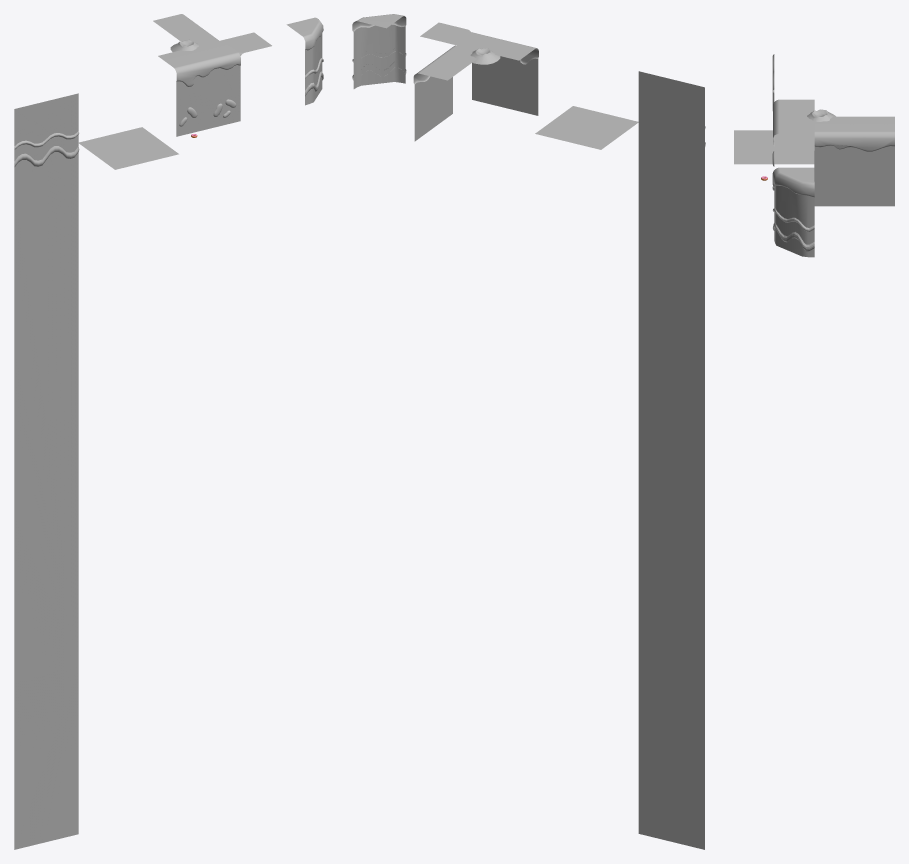
File: GMTK2025_Trimsheet_Modular_Update.fbx
3 views of the same model, side by side, from view 1: azimuth 30°, elevation 25°; view 2: azimuth 150°, elevation 25°; view 3: azimuth 270°, elevation 25° (orthographic). The views are drawn at different scales.
Visible parts, largest first — view 1: Cake_Wall_Long4, Cake_Wall_withTop2, Cake_Wall, Floor, Cake_Wall_Corner, Cake_Wall_withTop, FloorCorner; view 2: Cake_Wall_Long4, Cake_Wall, Cake_Wall_withTop2, Cake_Wall_Corner, Cake_Wall_withTop, Floor; view 3: Cake_Wall_withTop, Cake_Wall_Corner, Floor, Cake_Wall_withTop2, FloorCorner.
Boxes of the visible parts, box(x1,y1,x2,y2) form: Cake_Wall_Long4: box(14, 161, 78, 849); Cake_Wall_withTop2: box(158, 40, 240, 136); Cake_Wall: box(14, 93, 78, 176); Floor: box(79, 127, 178, 169); Cake_Wall_Corner: box(286, 17, 323, 105); Cake_Wall_withTop: box(153, 14, 218, 45); FloorCorner: box(222, 32, 271, 55); Cake_Wall_Long4: box(638, 140, 704, 849); Cake_Wall: box(638, 71, 704, 156); Cake_Wall_withTop2: box(453, 32, 538, 115); Cake_Wall_Corner: box(352, 14, 406, 88); Cake_Wall_withTop: box(413, 45, 476, 141); Floor: box(535, 106, 638, 149); Cake_Wall_withTop: box(814, 116, 894, 206); Cake_Wall_Corner: box(773, 167, 814, 257); Floor: box(734, 130, 814, 164); Cake_Wall_withTop2: box(773, 99, 814, 145); FloorCorner: box(774, 133, 814, 150).
Size of the model in its own units: 5.04 by 11.06 by 2.
